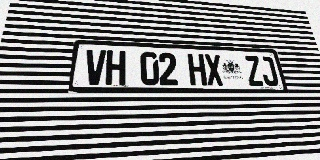0: (140, 52, 159, 85)
2: (158, 52, 178, 85)
H: (105, 50, 126, 85), (187, 53, 207, 86)
J: (258, 56, 279, 86)
V: (84, 49, 106, 85)
X: (204, 54, 224, 86)
Z: (244, 56, 265, 86)
